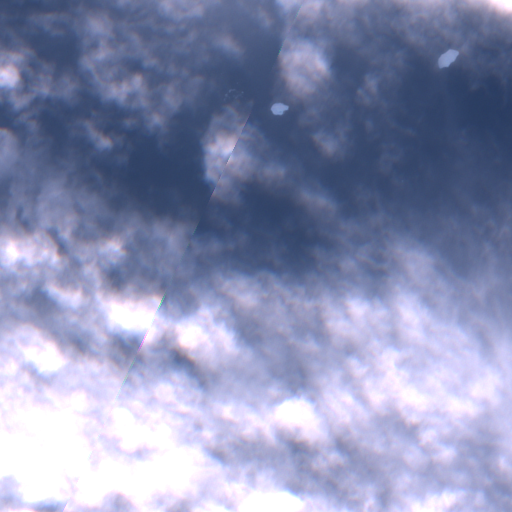Iceberg: (438, 50, 458, 67), (270, 102, 288, 114)
